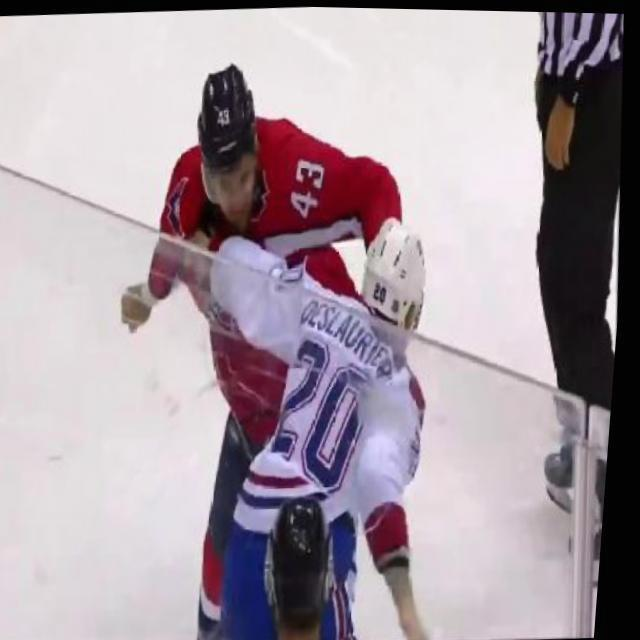fight: (90, 41, 480, 640)
